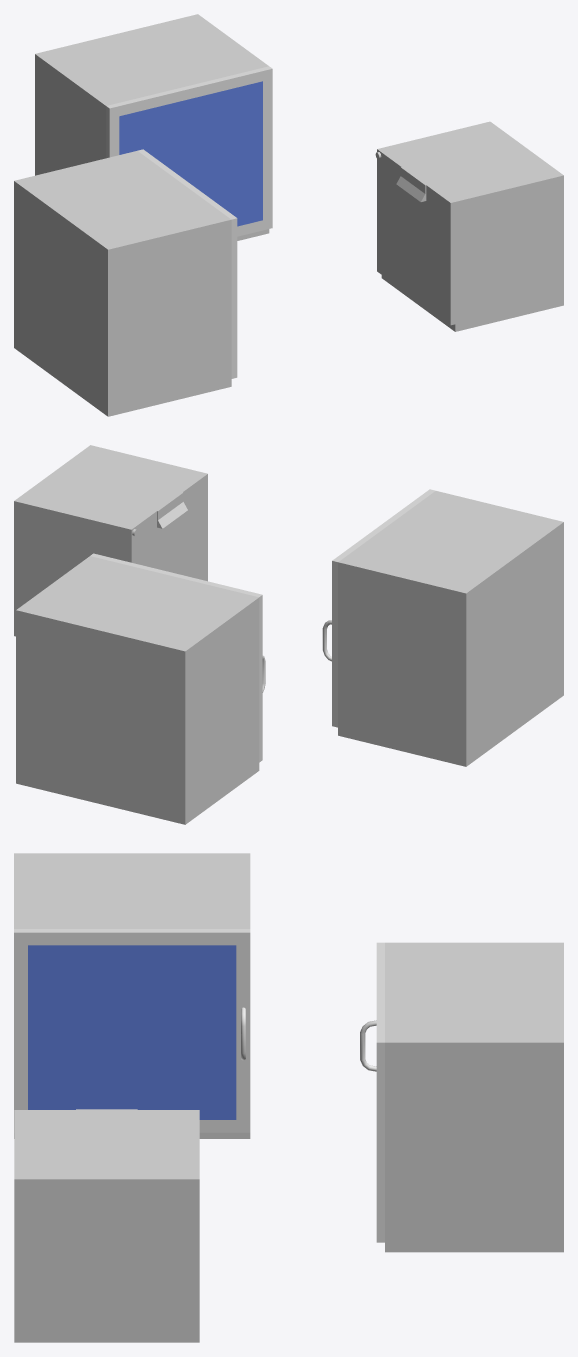
Rendered from Bar Fridges.fbx.
3 renders of one model, top to bottom at view 1: azimuth 30°, elevation 25°; view 2: azimuth 150°, elevation 25°; view 3: azimuth 270°, elevation 25°, orthographic. The views are drawn at different scales.
Visible parts, largest first — view 1: Plane.009, Plane.004, Plane.006, Plane.007, Plane.005, Plane.010; view 2: Plane.006, Plane.009, Plane.004, Plane.005, Plane.010, Plane.007; view 3: Plane.006, Plane.010, Plane.004, Plane.009, Plane.007, Plane.005.
Boxes of the visible parts, bbox=[...] form: Plane.009: bbox=[14, 150, 231, 416]; Plane.004: bbox=[381, 121, 563, 331]; Plane.006: bbox=[35, 14, 269, 240]; Plane.007: bbox=[106, 66, 272, 236]; Plane.005: bbox=[375, 148, 455, 325]; Plane.010: bbox=[138, 149, 237, 378]; Plane.006: bbox=[16, 556, 259, 824]; Plane.009: bbox=[338, 491, 563, 766]; Plane.004: bbox=[14, 445, 202, 636]; Plane.005: bbox=[127, 472, 207, 581]; Plane.010: bbox=[322, 489, 435, 727]; Plane.007: bbox=[90, 553, 265, 762]; Plane.006: bbox=[385, 942, 563, 1252]; Plane.010: bbox=[14, 929, 250, 1132]; Plane.004: bbox=[14, 1112, 199, 1342]; Plane.009: bbox=[14, 853, 250, 1138]; Plane.007: bbox=[360, 942, 384, 1242]; Plane.005: bbox=[14, 1109, 199, 1112].
Size of the model in its own units: 201 by 167 by 70.49.
